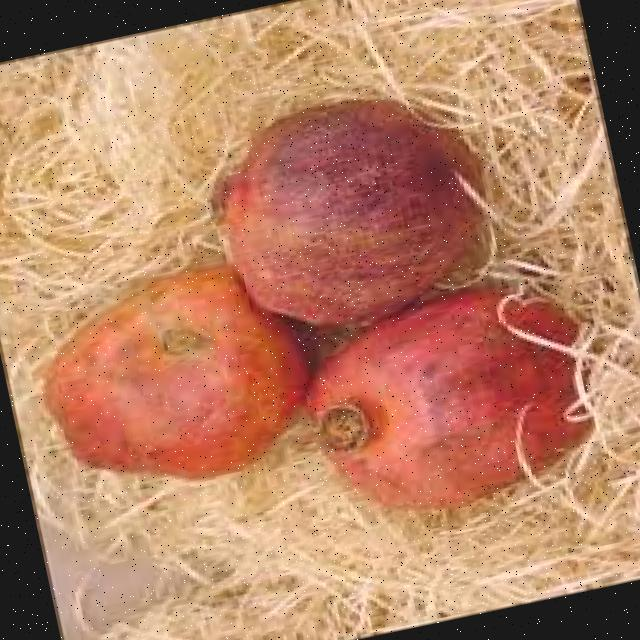overripe: (198, 75, 502, 349), (14, 244, 320, 515), (295, 276, 602, 534)
